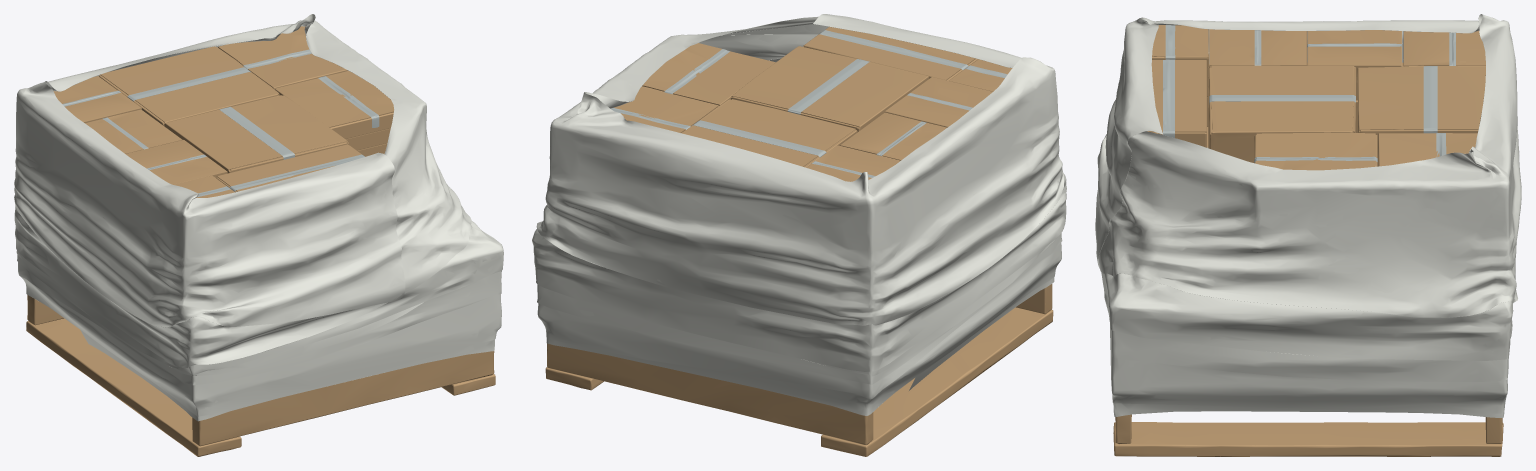
File: pallet_assembly_transparent_a01.glb
The picture shows the model from 3 angles, left to right: view 1: azimuth 30°, elevation 25°; view 2: azimuth 150°, elevation 25°; view 3: azimuth 270°, elevation 25°; orthographic projection. The views are drawn at different scales.
Bounding box in the file's own units: 0.6652 × 0.4999 × 0.6602.
